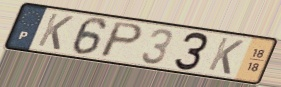3: (172, 30, 211, 72), (141, 27, 174, 65)
6: (71, 17, 109, 57)
K: (35, 11, 76, 52), (206, 35, 247, 76)
P: (97, 20, 146, 60)
